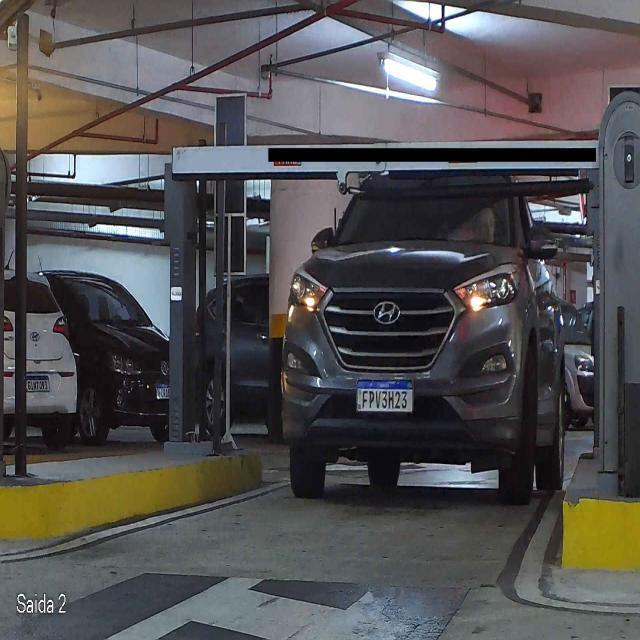mercosul_plate: (354, 379, 415, 414)
